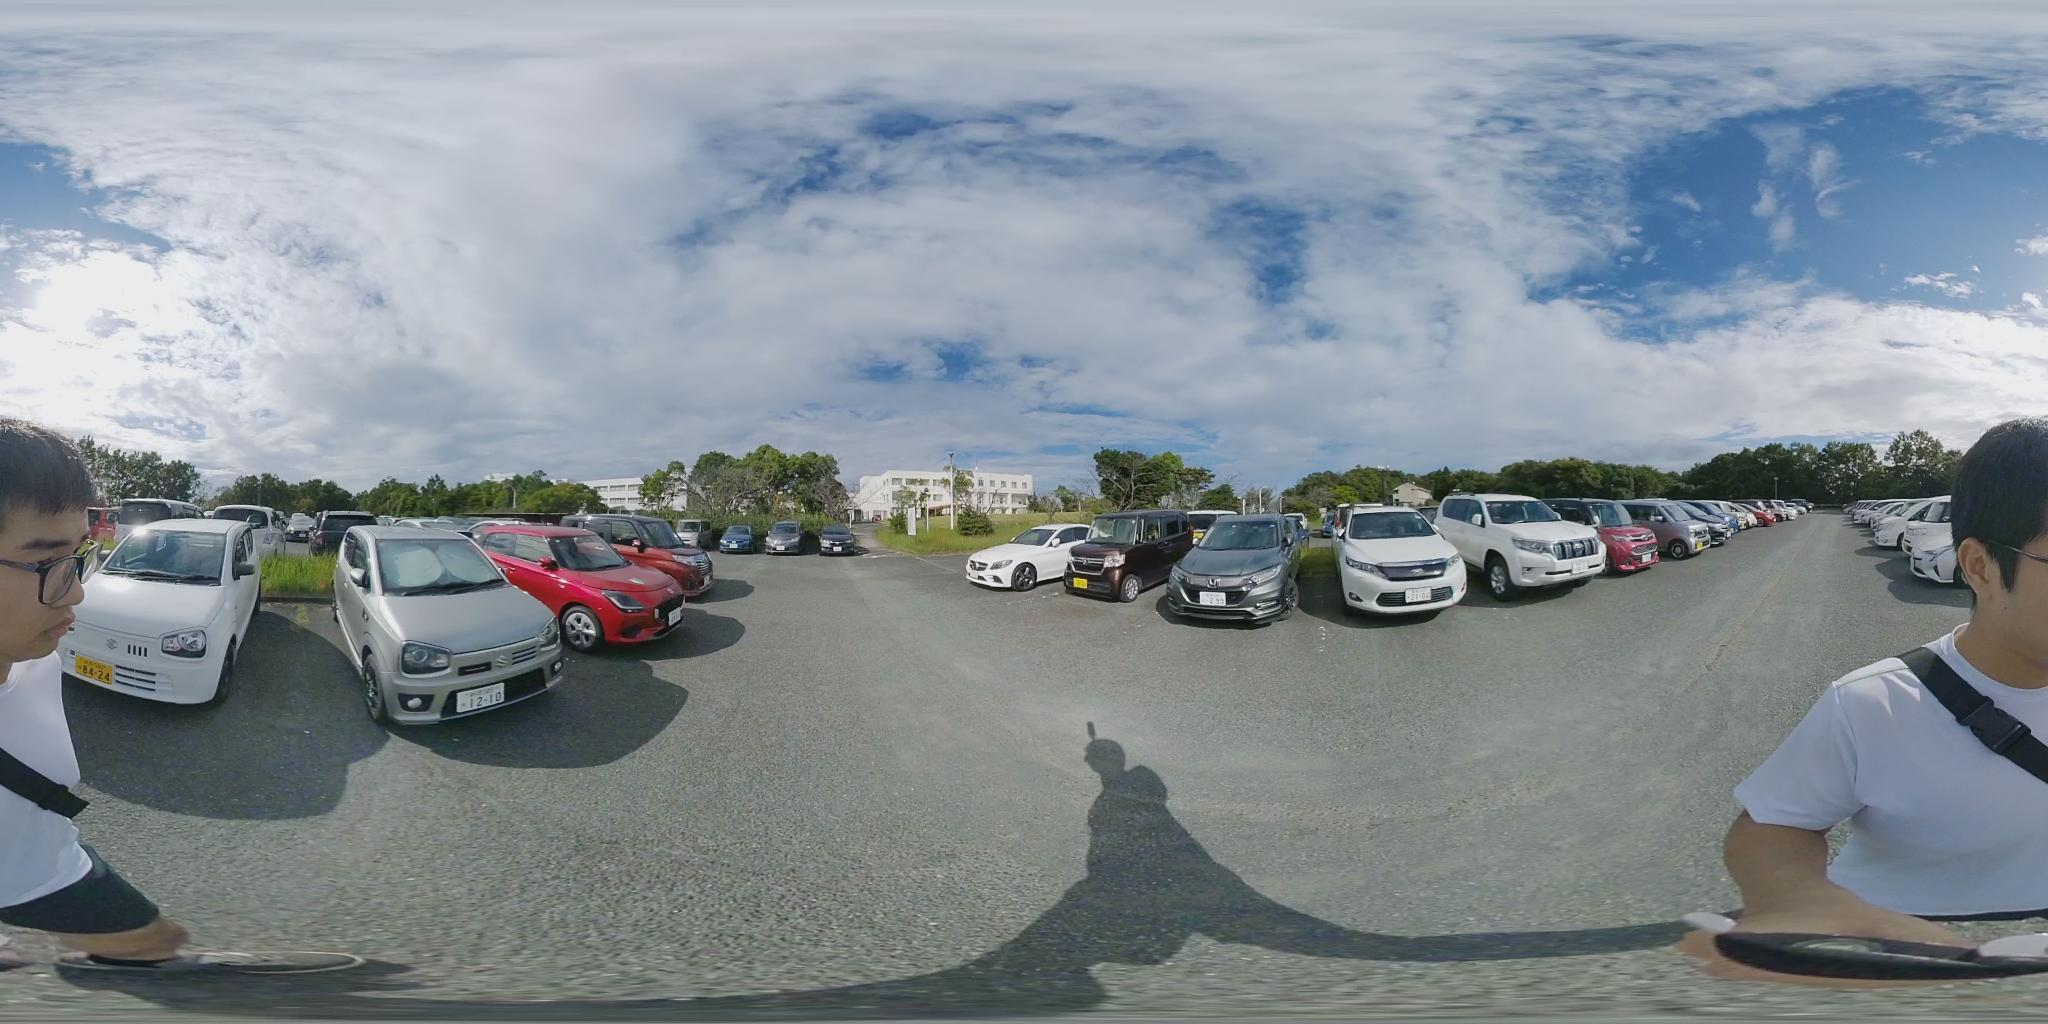car: (324, 525, 579, 725), (469, 524, 705, 647), (1428, 495, 1609, 603), (1161, 515, 1306, 630), (1339, 511, 1472, 623), (1068, 512, 1186, 593), (956, 525, 1095, 589), (567, 513, 711, 566), (1575, 499, 1678, 567), (1626, 503, 1712, 559), (1853, 495, 1949, 545), (313, 513, 379, 547), (208, 504, 274, 528), (764, 522, 802, 552), (1757, 499, 1808, 521), (820, 532, 859, 555), (718, 525, 750, 552)
